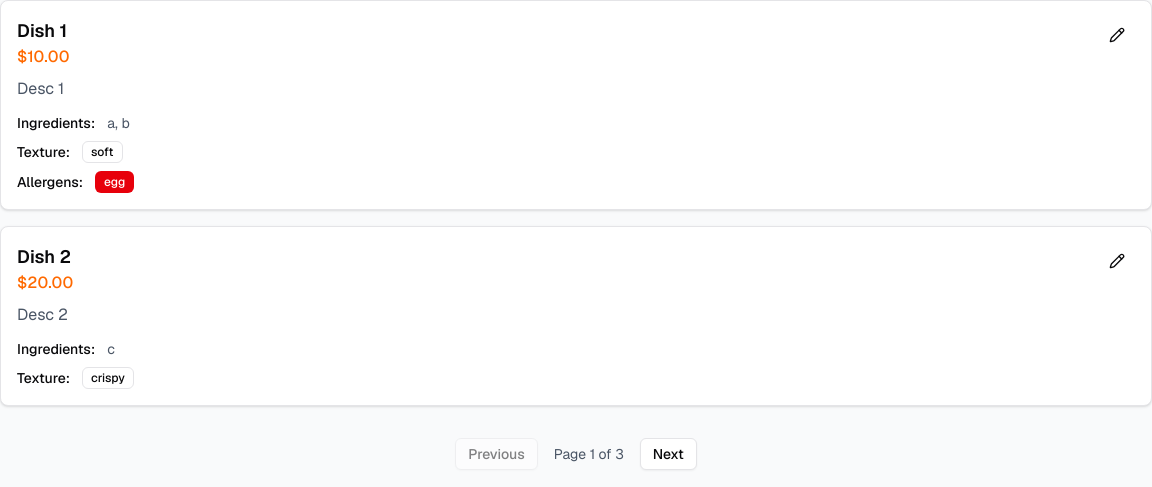
Test: MenuItemsManagement › renders menu items and pagination
Check: the heading "Dish 1" is shown, box [17,17,70,45]
Check: the heading "Dish 2" is shown, box [17,243,73,271]
// Click next page
Click the button "Next": x=668, y=454 [640,438,697,470]
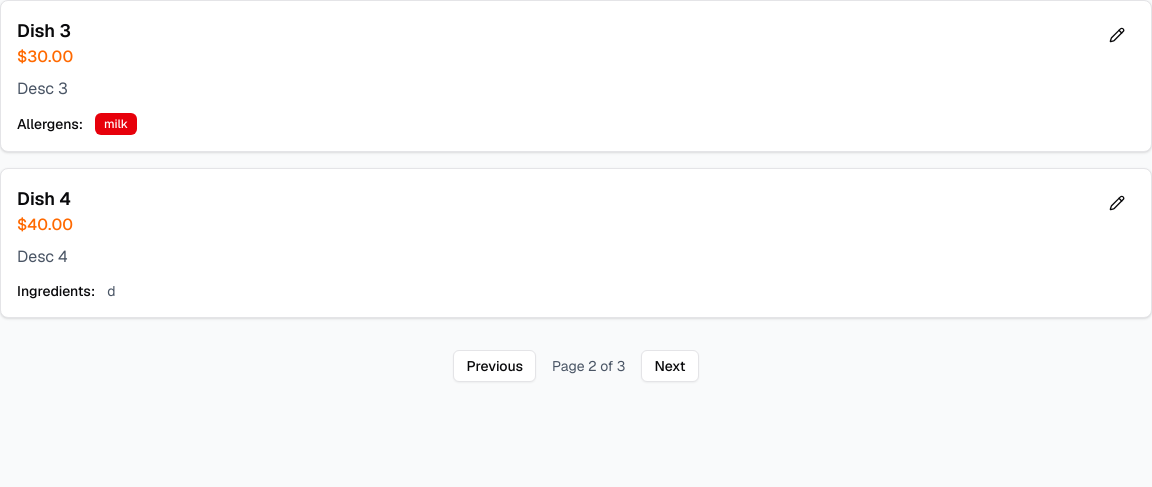
Check: the heading "Dish 3" is shown, box [17,17,73,45]
Check: the heading "Dish 4" is shown, box [17,185,73,213]
// Click previous page
Click the button "Previous": x=495, y=366 [454,350,536,382]
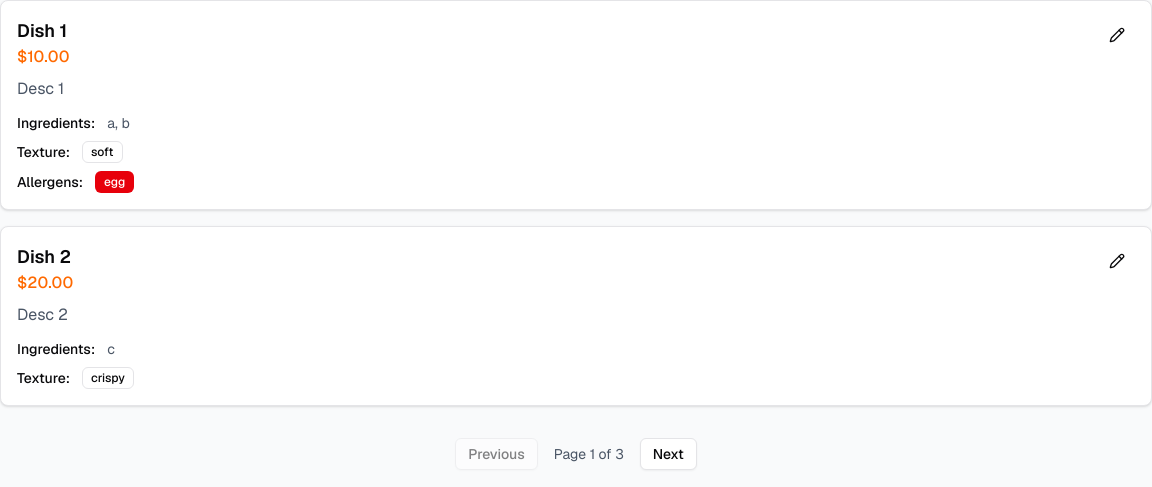
Check: the heading "Dish 1" is shown, box [17,17,70,45]
